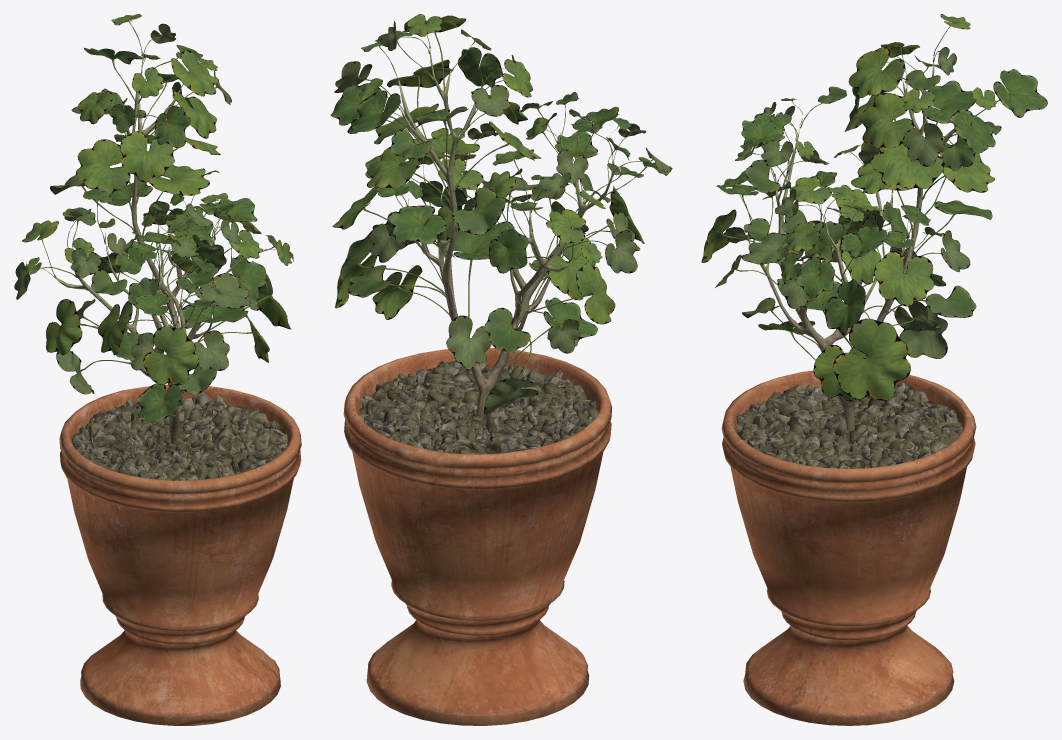
The model's file is potted_plant_01.glb.
The picture shows the model from 3 angles, left to right: view 1: azimuth 30°, elevation 25°; view 2: azimuth 150°, elevation 25°; view 3: azimuth 270°, elevation 25°; orthographic projection. The views are drawn at different scales.
Visible parts, largest first — view 1: potted_plant_01_pot, potted_plant_01_leaves, potted_plant_01_pebbles, potted_plant_01_stem; view 2: potted_plant_01_pot, potted_plant_01_leaves, potted_plant_01_pebbles, potted_plant_01_stem; view 3: potted_plant_01_pot, potted_plant_01_leaves, potted_plant_01_pebbles, potted_plant_01_stem.
Part boxes in pixels (x1,y1,x2,y2): potted_plant_01_pot: (59,384,301,725); potted_plant_01_leaves: (14,14,293,423); potted_plant_01_pebbles: (71,392,287,480); potted_plant_01_stem: (54,54,244,443); potted_plant_01_pot: (343,348,611,725); potted_plant_01_leaves: (330,14,672,414); potted_plant_01_pebbles: (359,360,597,453); potted_plant_01_stem: (398,48,612,421); potted_plant_01_pot: (721,370,976,725); potted_plant_01_leaves: (701,14,1047,401); potted_plant_01_pebbles: (736,382,962,468); potted_plant_01_stem: (753,57,967,432).
Bounding box in the file's own units: 0.5874 × 1.34 × 0.6336.
Materials: 2 (2 with a texture image).
